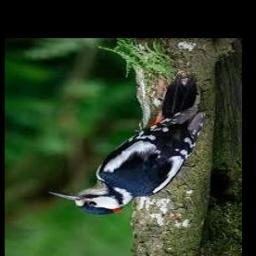Woodpecker: (49, 73, 206, 215)
